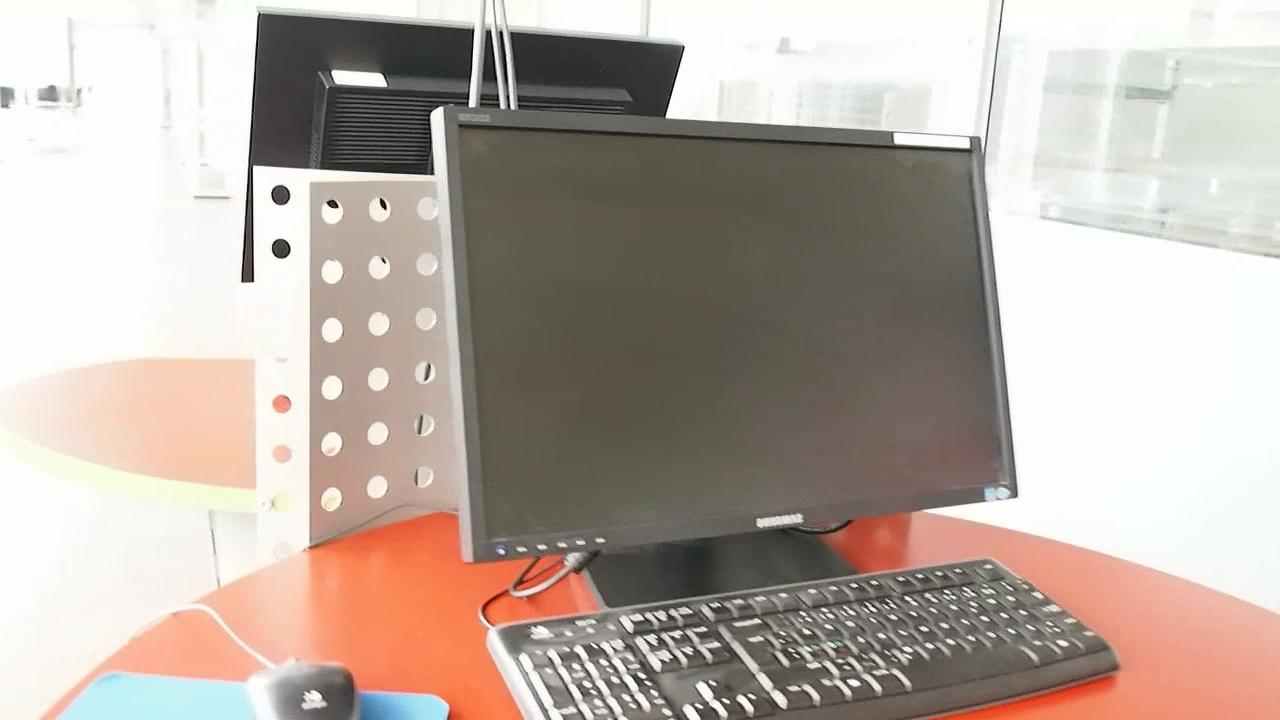screen: (452, 126, 1029, 569)
